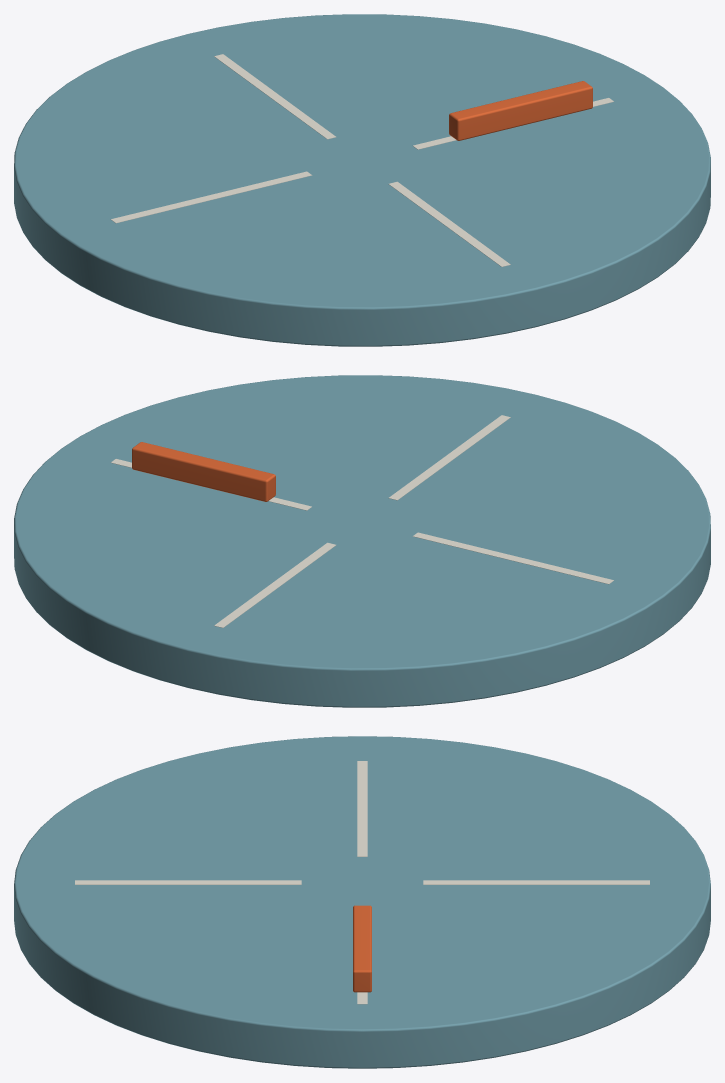
File: water-rush-turntable.glb
3 views of the same model, one above another, from view 1: azimuth 30°, elevation 25°; view 2: azimuth 150°, elevation 25°; view 3: azimuth 270°, elevation 25° (orthographic).
Parts seen in each view (by area): view 1: TurntableVisual; view 2: TurntableVisual; view 3: TurntableVisual.
Part boxes in pixels (bbox=[...]): TurntableVisual: bbox=[14, 14, 710, 346]; TurntableVisual: bbox=[14, 375, 710, 707]; TurntableVisual: bbox=[14, 736, 710, 1068].
Bounding box in the file's own units: 8 × 0.78 × 8.
